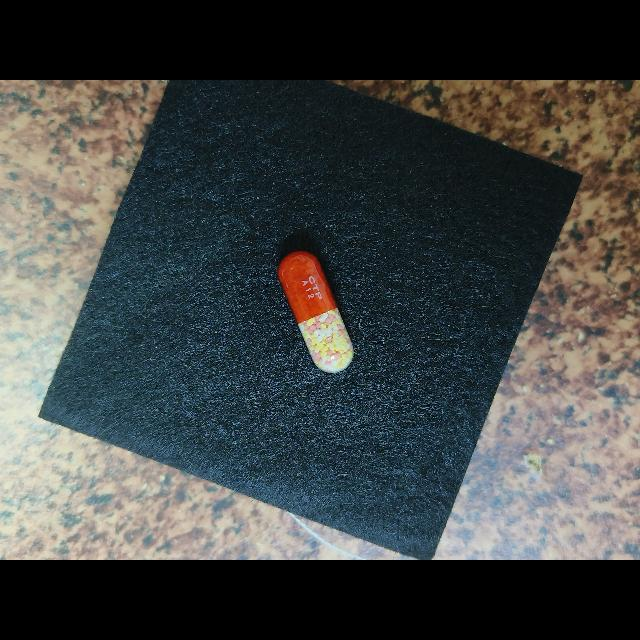Intact Capsule: (278, 251, 354, 372)
